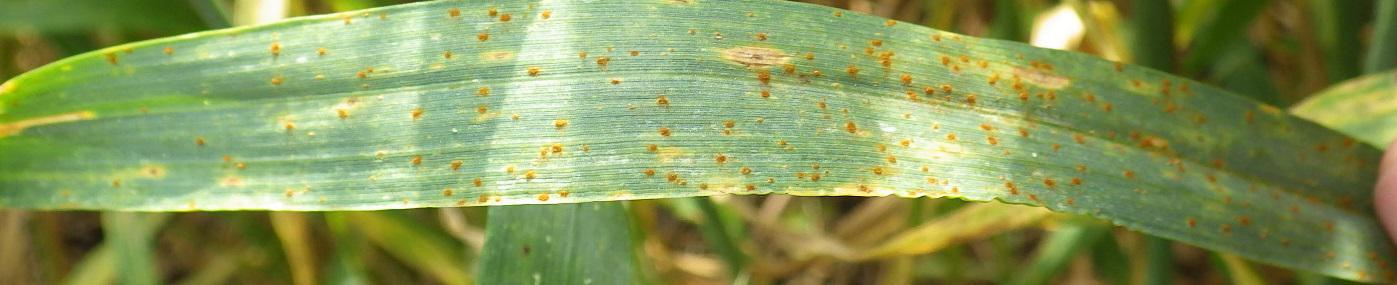Wheat: (845, 24, 1276, 260), (308, 8, 712, 206)
